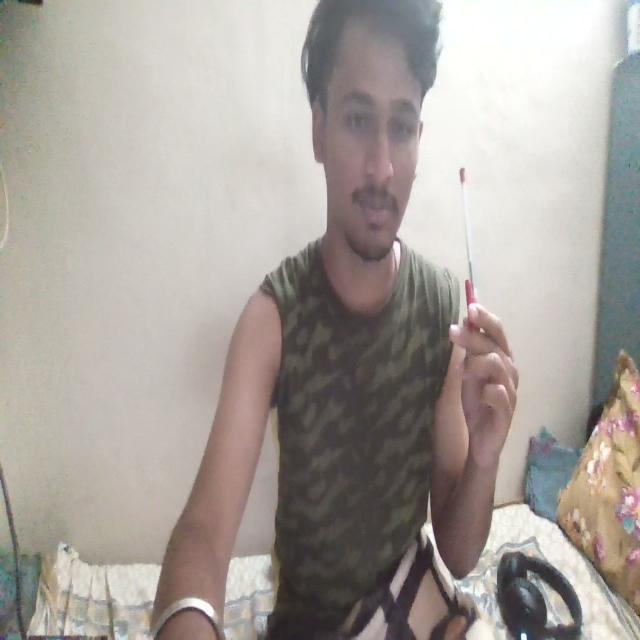pen: (446, 149, 483, 335)
